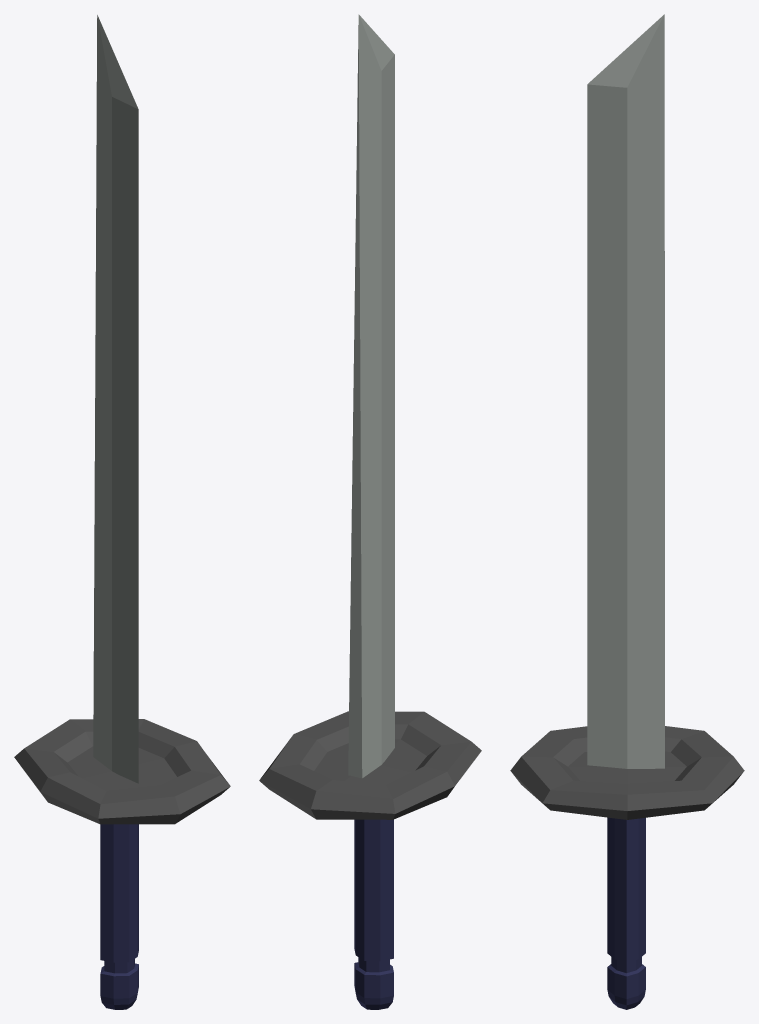
The model's file is blade.fbx.
The picture shows the model from 3 angles, left to right: view 1: azimuth 30°, elevation 25°; view 2: azimuth 150°, elevation 25°; view 3: azimuth 270°, elevation 25°; orthographic projection. The views are drawn at different scales.
Visible parts, largest first — view 1: Cube.001, Cube, Cube.002; view 2: Cube.001, Cube, Cube.002; view 3: Cube.001, Cube, Cube.002.
Boxes of the visible parts, left/top/right/bottom form: Cube.001: left=93, top=15, right=138, bottom=783; Cube: left=14, top=719, right=230, bottom=824; Cube.002: left=100, top=824, right=138, bottom=1009; Cube.001: left=348, top=14, right=394, bottom=778; Cube: left=259, top=711, right=481, bottom=819; Cube.002: left=354, top=819, right=393, bottom=1009; Cube.001: left=587, top=14, right=664, bottom=768; Cube: left=510, top=726, right=744, bottom=819; Cube.002: left=607, top=817, right=645, bottom=1009.
Size of the model in its own units: 383 by 2175 by 468.
